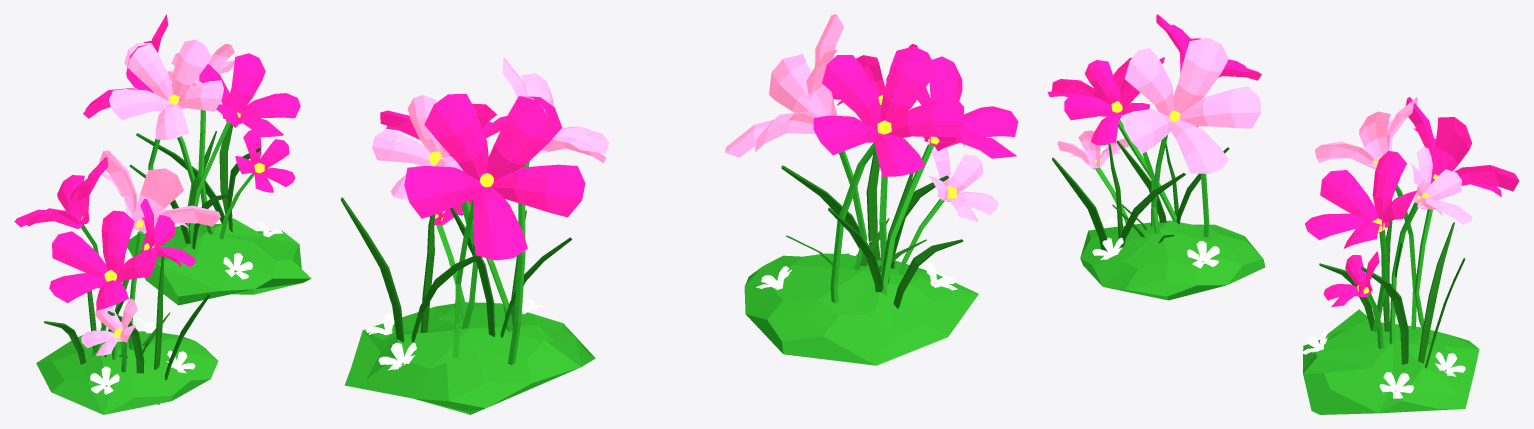
The model's file is DiagoPlant.glb.
3 renders of one model, left to right at view 1: azimuth 30°, elevation 25°; view 2: azimuth 150°, elevation 25°; view 3: azimuth 270°, elevation 25°, orthographic. The views are drawn at different scales.
Parts seen in each view (by area): view 1: Cylinder.019; view 2: Cylinder.019; view 3: Cylinder.019.
Part boxes in pixels (x1,y1,x2,y2): Cylinder.019: (14, 14, 311, 414); Cylinder.019: (340, 14, 1018, 414); Cylinder.019: (1047, 14, 1519, 414).
Bounding box in the file's own units: 2.05 × 1.29 × 2.11.
